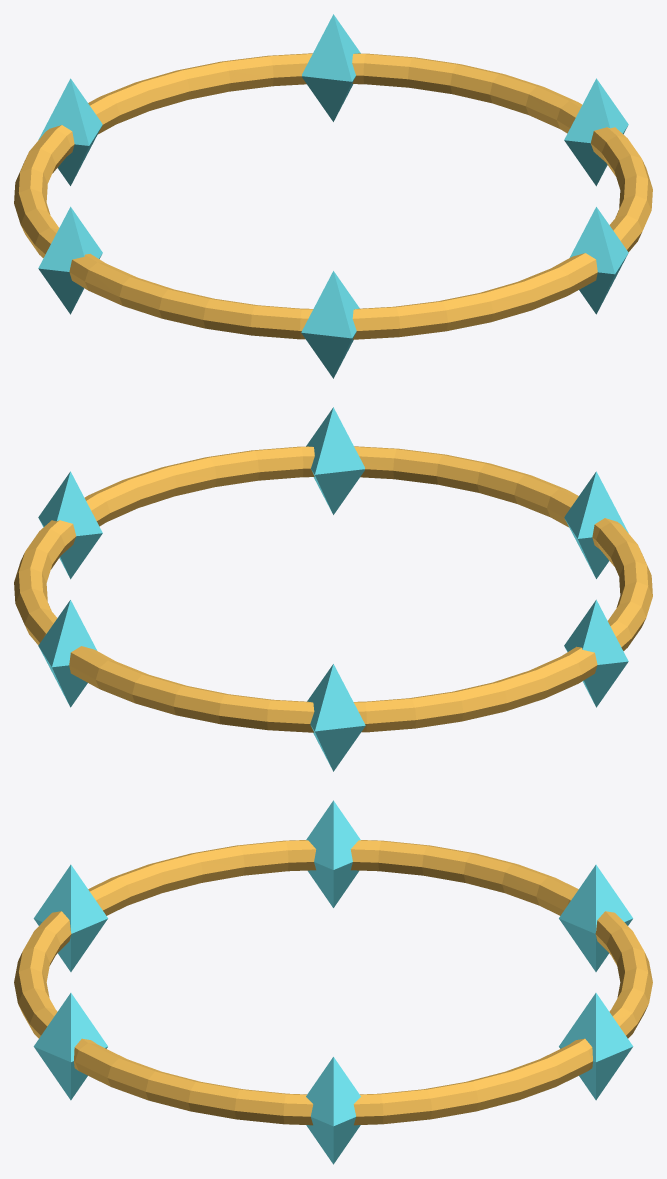
File: halo.obj
The picture shows the model from 3 angles, top to bottom: view 1: azimuth 30°, elevation 25°; view 2: azimuth 150°, elevation 25°; view 3: azimuth 270°, elevation 25°; orthographic projection.
Size of the model in its own units: 2.92 by 0.512 by 2.74.
